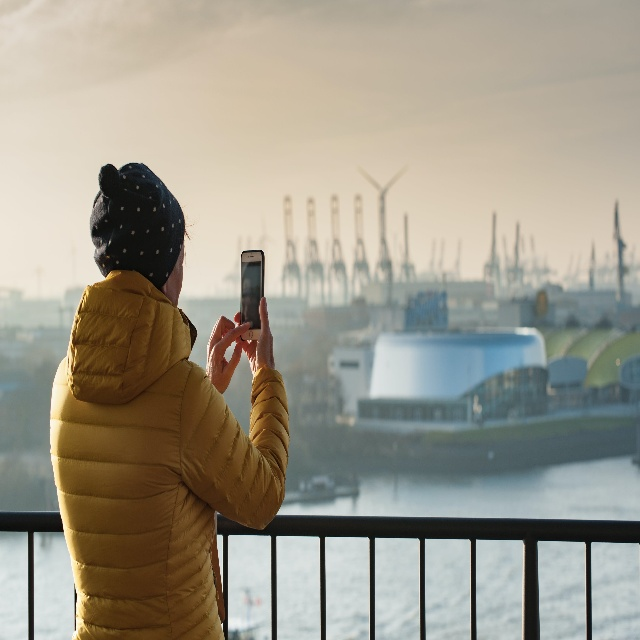Sin_guantes: (205, 313, 251, 395), (234, 295, 276, 376)
